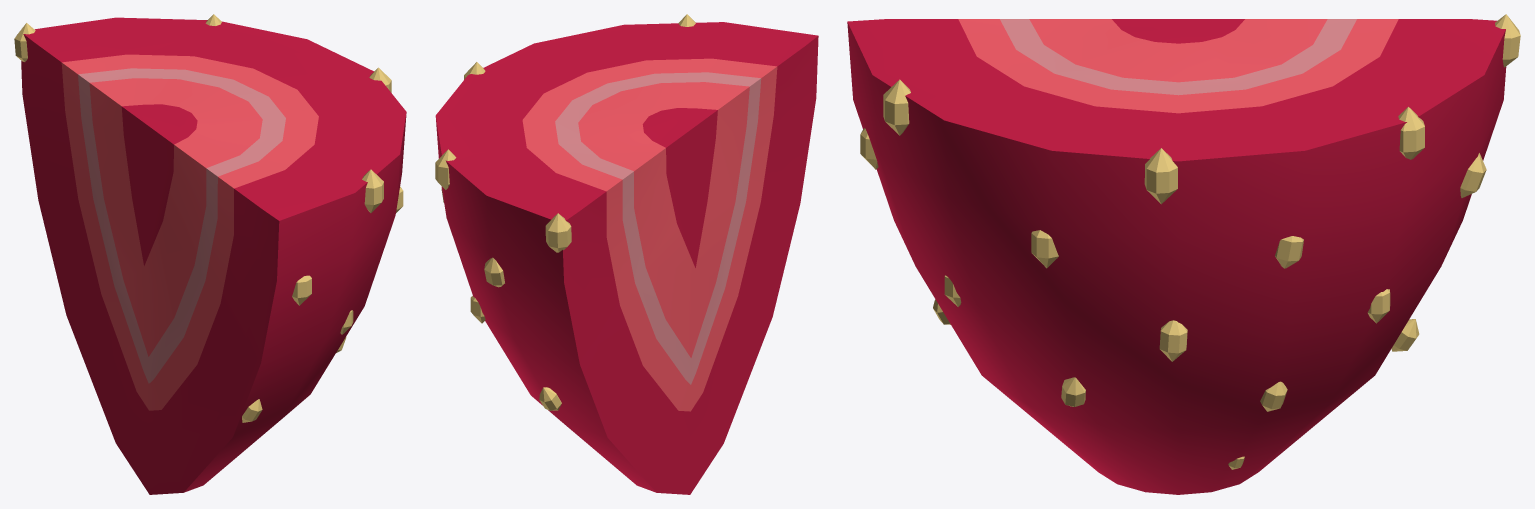
Rendered from strawberry slice.fbx.
3 views of the same model, side by side, from view 1: azimuth 30°, elevation 25°; view 2: azimuth 150°, elevation 25°; view 3: azimuth 270°, elevation 25° (orthographic). The views are drawn at different scales.
Visible parts, largest first — view 1: Cylinder; view 2: Cylinder; view 3: Cylinder.
Boxes of the visible parts, x1,y1,x2,y2 form: Cylinder: (14,14,406,494); Cylinder: (435,14,818,494); Cylinder: (847,14,1520,494).
Bounding box in the file's own units: 45.36 × 68.65 × 86.66.
